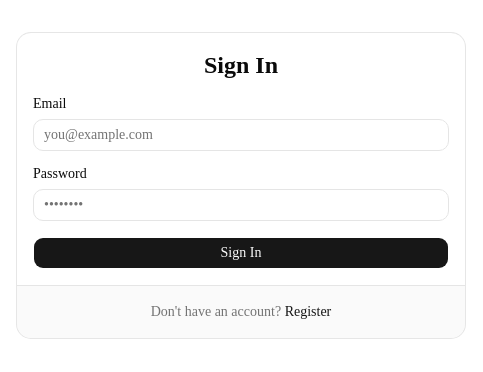
LoginPage › shows validation error for short password
Type "test@example.com" into the field labelled "Email". click: (241,134)
box: [33,118,449,150]
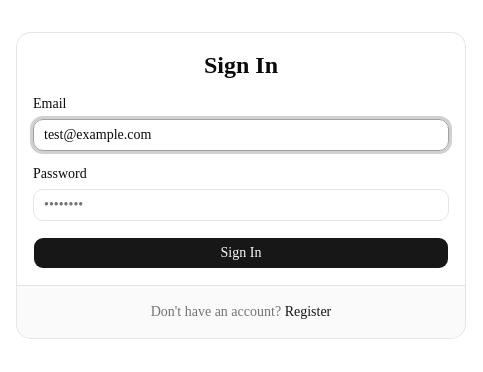
Type "123" into the password field labelled "Password". click: (241,204)
box: [33,188,449,220]
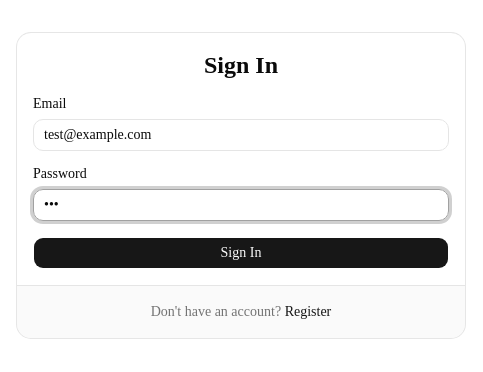
Click the button "Sign In". click: (241,252)
box: [33,236,449,268]
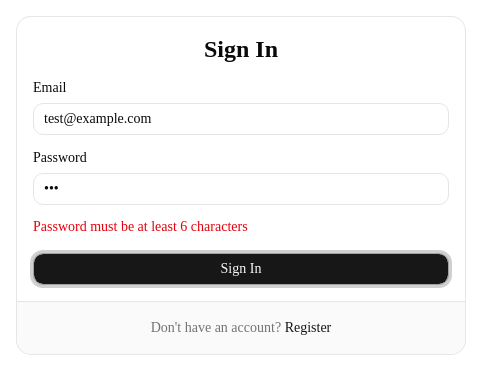
Now the text "Password must be at least 6 characters" is shown, box [33,218,248,234]
